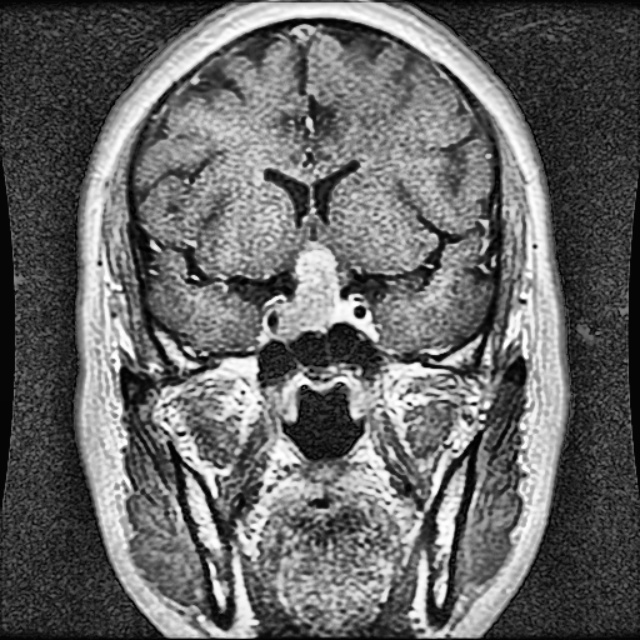Pituitary: (277, 247, 339, 338)
